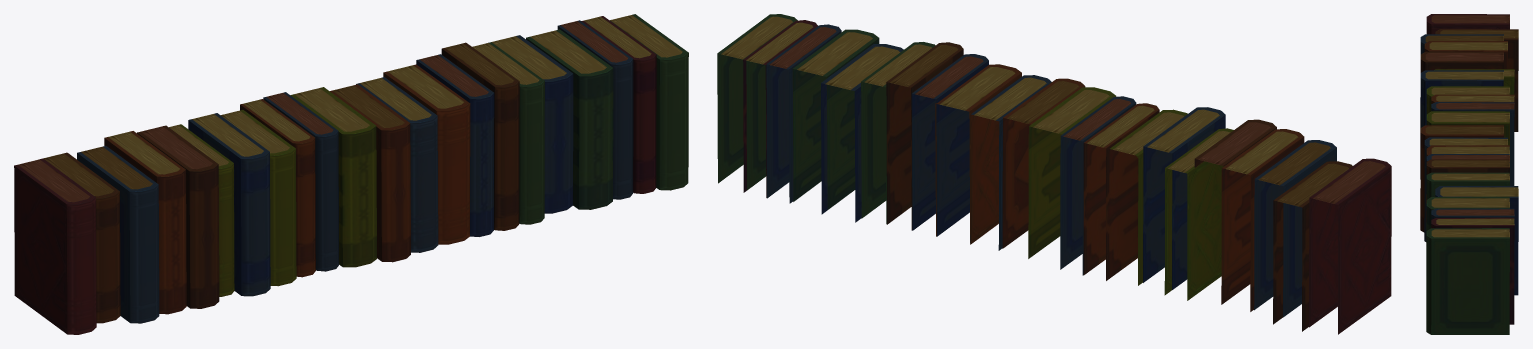
The model's file is BookGroup_Large_2.gltf.
The picture shows the model from 3 angles, left to right: view 1: azimuth 30°, elevation 25°; view 2: azimuth 150°, elevation 25°; view 3: azimuth 270°, elevation 25°; orthographic projection. The views are drawn at different scales.
Visible parts, largest first — view 1: BookGroup_Large_2; view 2: BookGroup_Large_2; view 3: BookGroup_Large_2.
Part boxes in pixels (x1,y1,x2,y2): BookGroup_Large_2: [14, 14, 688, 334]; BookGroup_Large_2: [717, 14, 1391, 334]; BookGroup_Large_2: [1420, 14, 1518, 334].
Size of the model in its own units: 1.34 by 0.2949 by 0.2475.
1 material, 1 textured.
